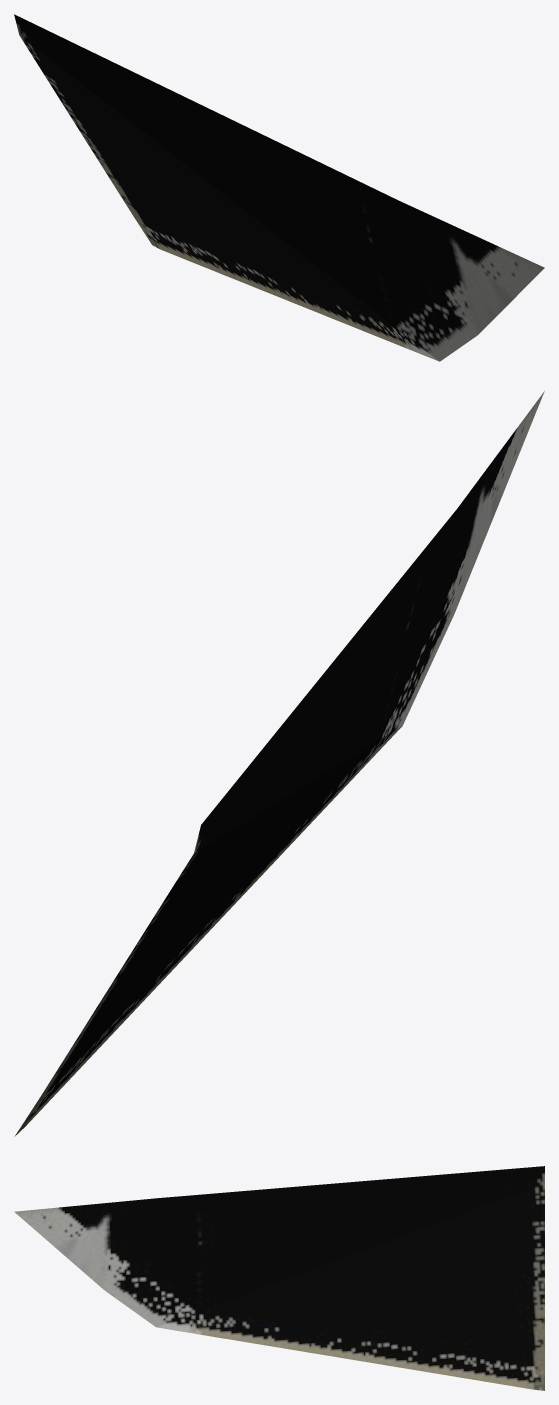
The picture shows the model from 3 angles, top to bottom: view 1: azimuth 30°, elevation 25°; view 2: azimuth 150°, elevation 25°; view 3: azimuth 270°, elevation 25°; orthographic projection. The views are drawn at different scales.
Bounding box in the file's own units: 0.9149 × 1.67 × 4.5.
1 material, 1 textured.
